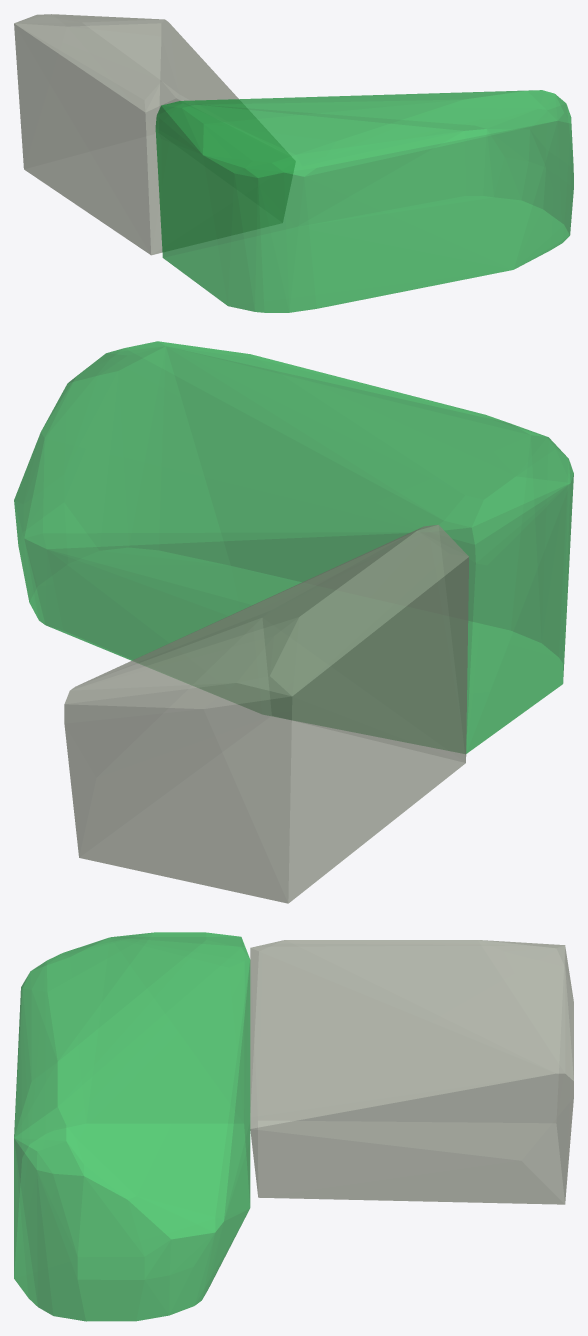
3 views of the same model, one above another, from view 1: azimuth 30°, elevation 25°; view 2: azimuth 150°, elevation 25°; view 3: azimuth 270°, elevation 25° (orthographic). The views are drawn at different scales.
Parts seen in each view (by area): view 1: Shape_IndexedFaceSet.001, Shape_IndexedFaceSet; view 2: Shape_IndexedFaceSet.001, Shape_IndexedFaceSet; view 3: Shape_IndexedFaceSet.001, Shape_IndexedFaceSet.
Part boxes in pixels (box(x1,y1,x2,y2)): Shape_IndexedFaceSet.001: box(155, 90, 573, 312); Shape_IndexedFaceSet: box(14, 14, 294, 255); Shape_IndexedFaceSet.001: box(14, 341, 573, 753); Shape_IndexedFaceSet: box(64, 524, 468, 903); Shape_IndexedFaceSet.001: box(14, 932, 250, 1321); Shape_IndexedFaceSet: box(250, 940, 573, 1204).
Size of the model in its own units: 0.6449 by 0.284 by 0.7269.
